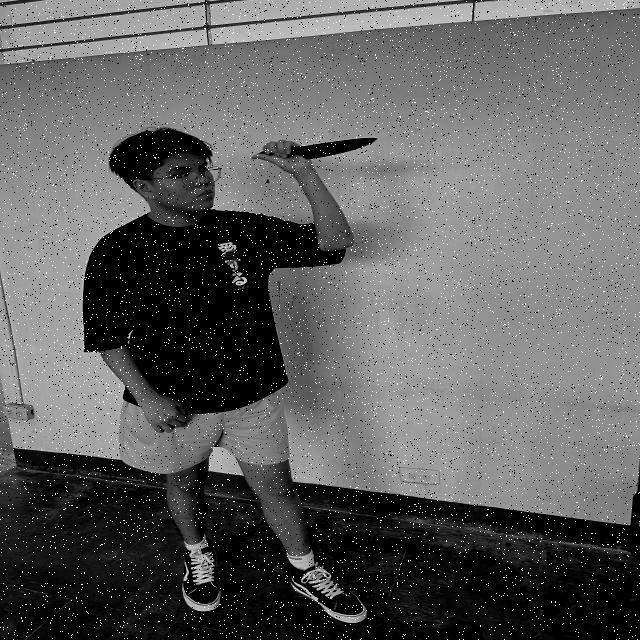knife: (270, 136, 379, 162)
non-violence: (84, 130, 383, 622)
